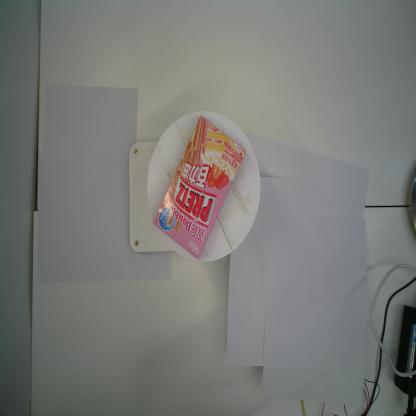Dessert: (152, 114, 247, 260)
